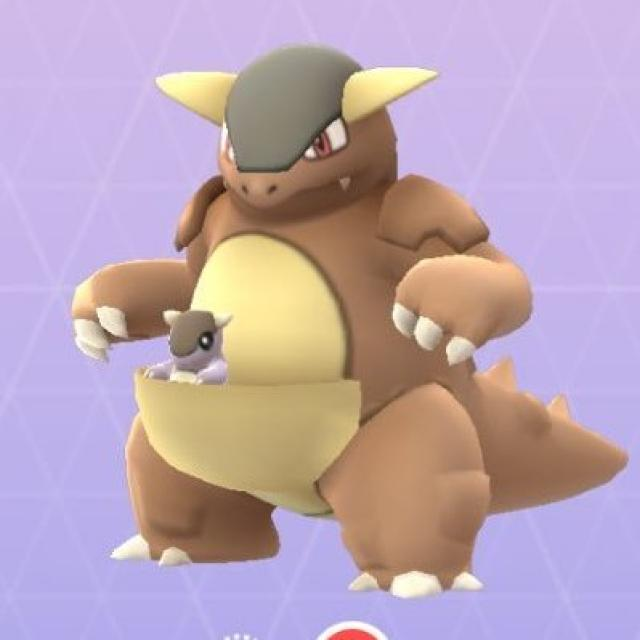Kangaskhan: (110, 48, 544, 568)
